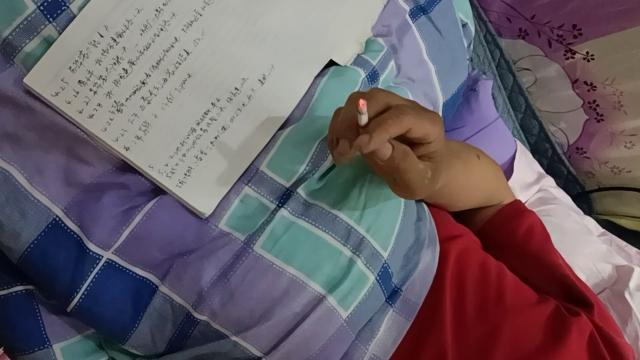Smoking: (358, 99, 370, 145)
